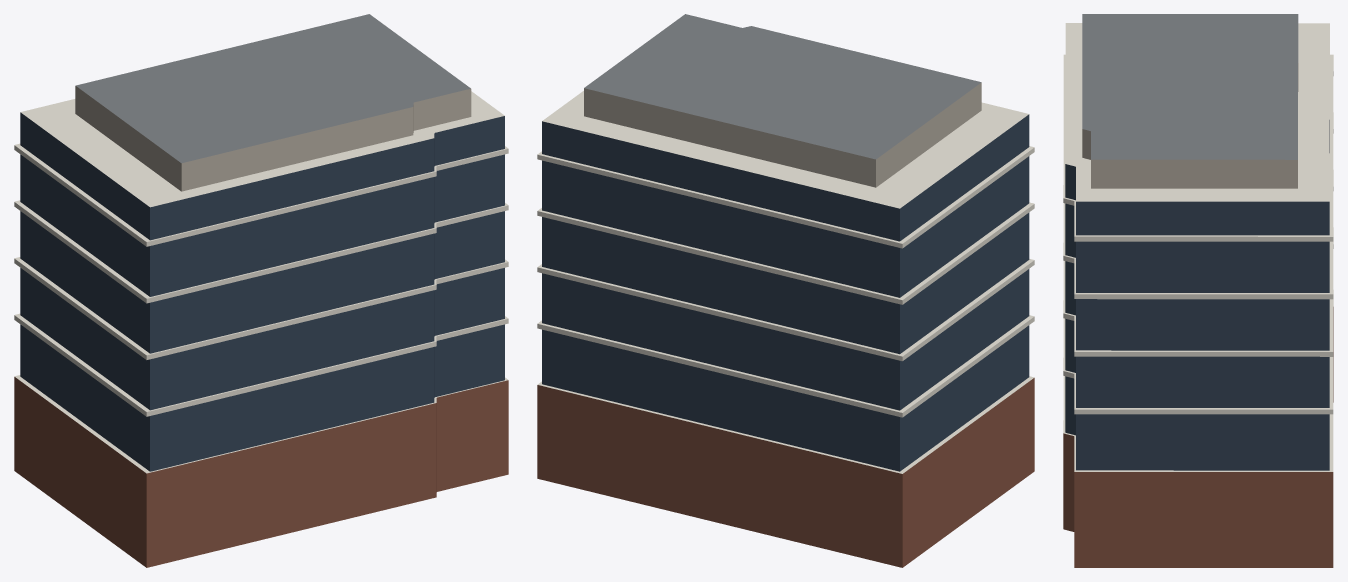
Rendered from the_grove.glb.
The picture shows the model from 3 angles, left to right: view 1: azimuth 30°, elevation 25°; view 2: azimuth 150°, elevation 25°; view 3: azimuth 270°, elevation 25°; orthographic projection. The views are drawn at different scales.
Visible parts, largest first — view 1: The_Grove; view 2: The_Grove; view 3: The_Grove.
Part boxes in pixels (x1,y1,x2,y2): The_Grove: [14, 14, 508, 567]; The_Grove: [537, 14, 1034, 567]; The_Grove: [1063, 14, 1333, 567].
Size of the model in its own units: 40.73 by 41 by 25.5.
